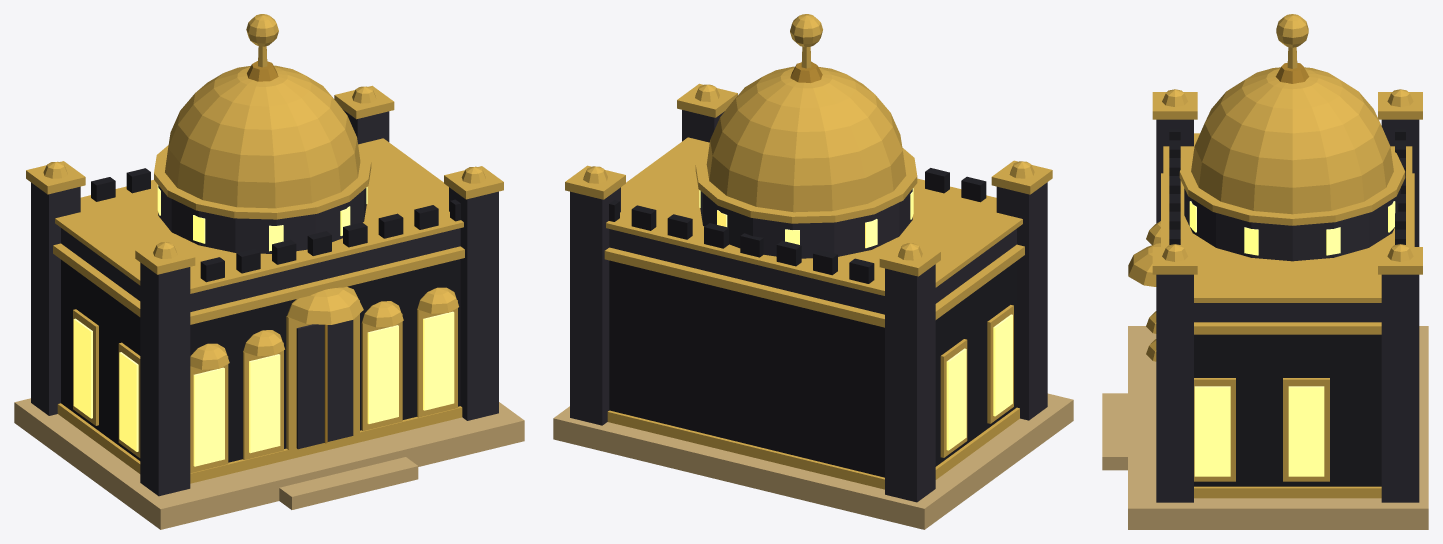
File: b-palace.glb
The picture shows the model from 3 angles, left to right: view 1: azimuth 30°, elevation 25°; view 2: azimuth 150°, elevation 25°; view 3: azimuth 270°, elevation 25°; orthographic projection. The views are drawn at different scales.
Parts seen in each view (by area): view 1: b-palace; view 2: b-palace; view 3: b-palace.
Part boxes in pixels (<box>): b-palace: <box>14,14,524,529</box>; b-palace: <box>553,14,1073,529</box>; b-palace: <box>1102,14,1428,529</box>.
Size of the model in its own units: 4.6 by 4.97 by 3.48.
